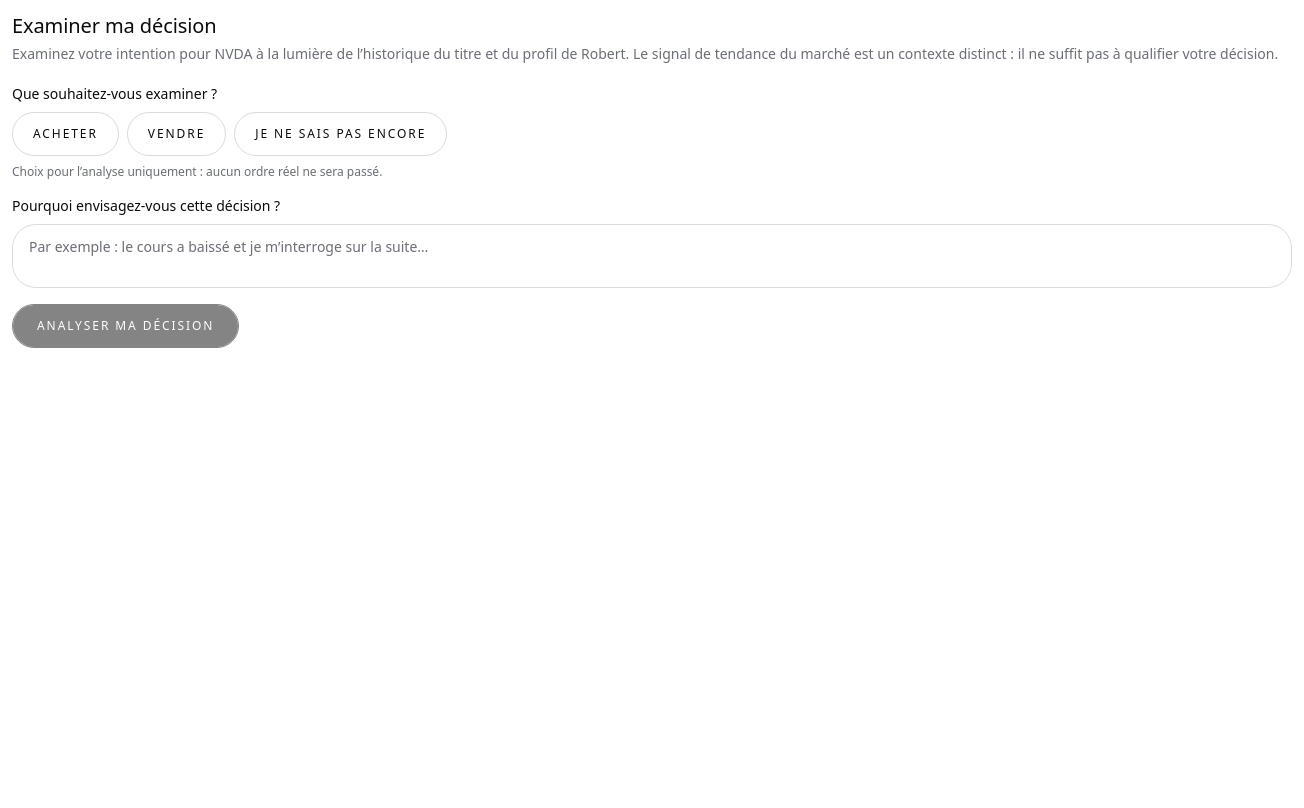
Test: shows the real pipeline stage and a check once each stage is completed
Later steps or results of the test are not shown.
Type "Je réfléchis" into the text box labelled "Pourquoi envisagez-vous cette décision ?".
click(652, 256); type("Je réfléchis")  # box [12,224,1292,288]
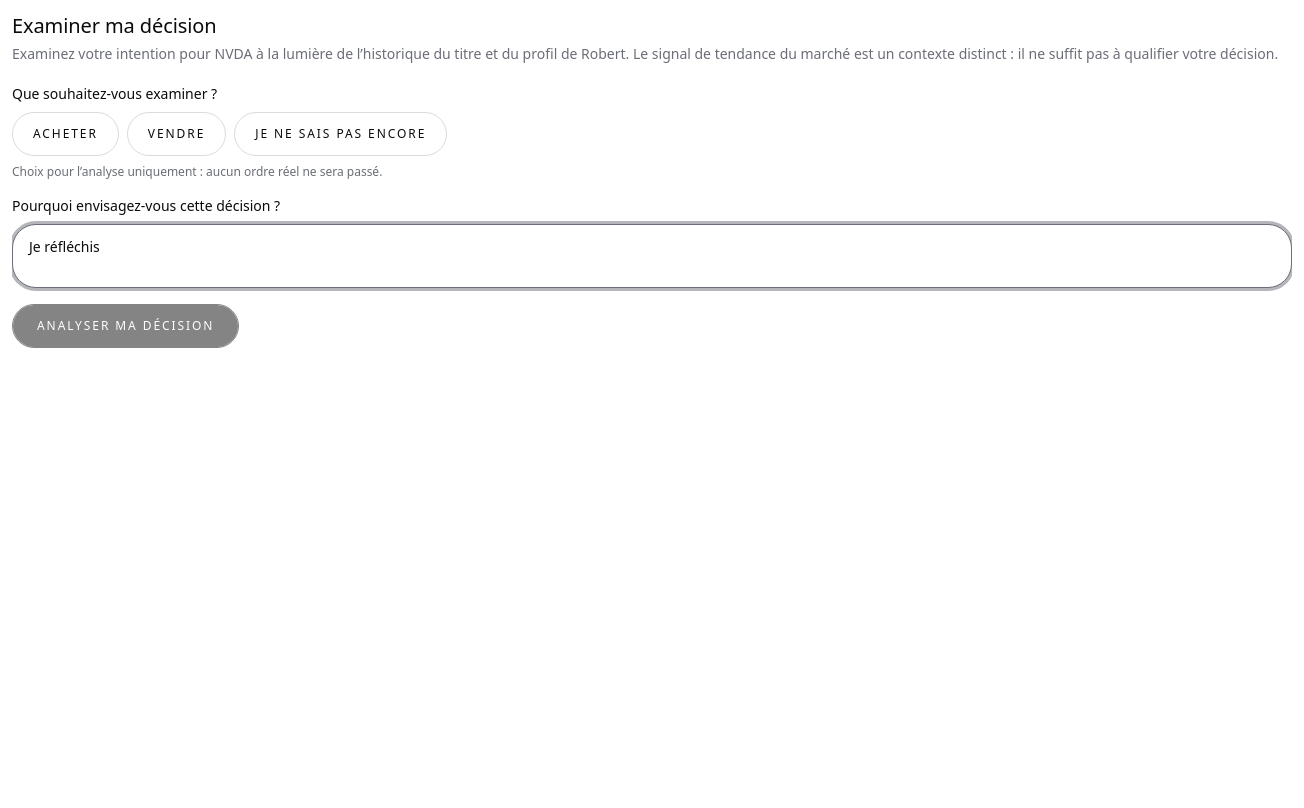
Click the radio button labelled "Acheter".
click(65, 134)  # box [12,112,119,156]
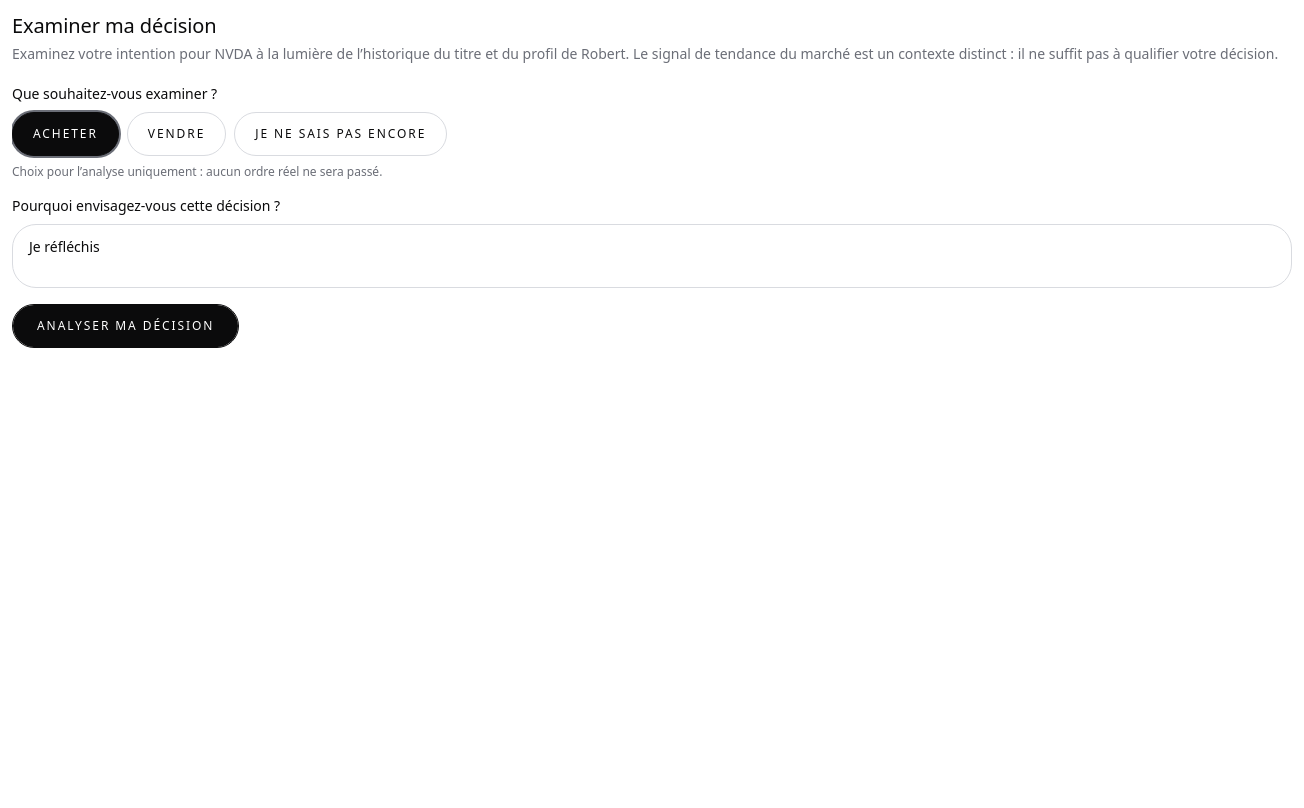
Click the button "Analyser ma décision".
click(126, 326)  # box [12,304,239,348]
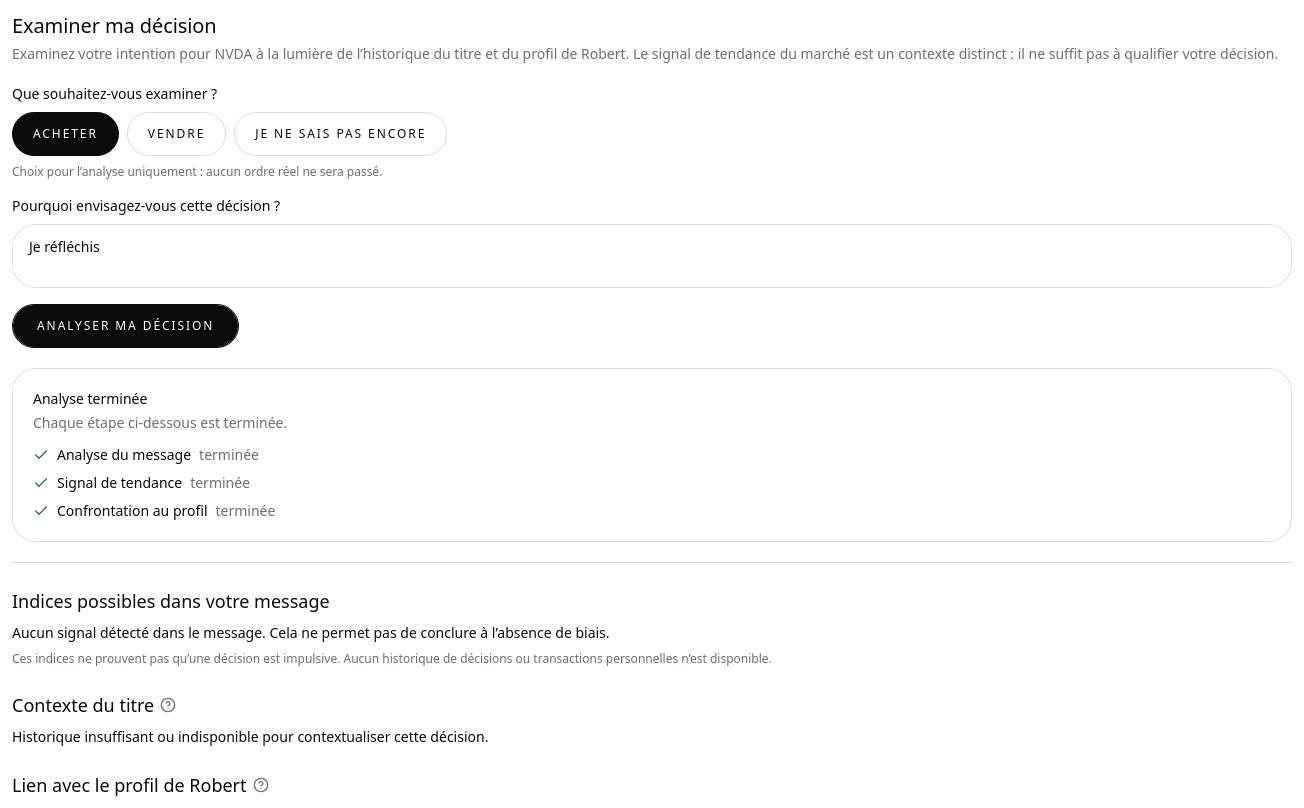
Expected: the icon named "Terminée" next to "Analyse du message" is shown, [33,447,49,463]
Expected: the text "Analyse terminée" is shown, [33,389,147,408]
Expected: the number of icons named "Terminée" is 3, [33,447,49,463]; [33,475,49,491]; [33,503,49,519]
